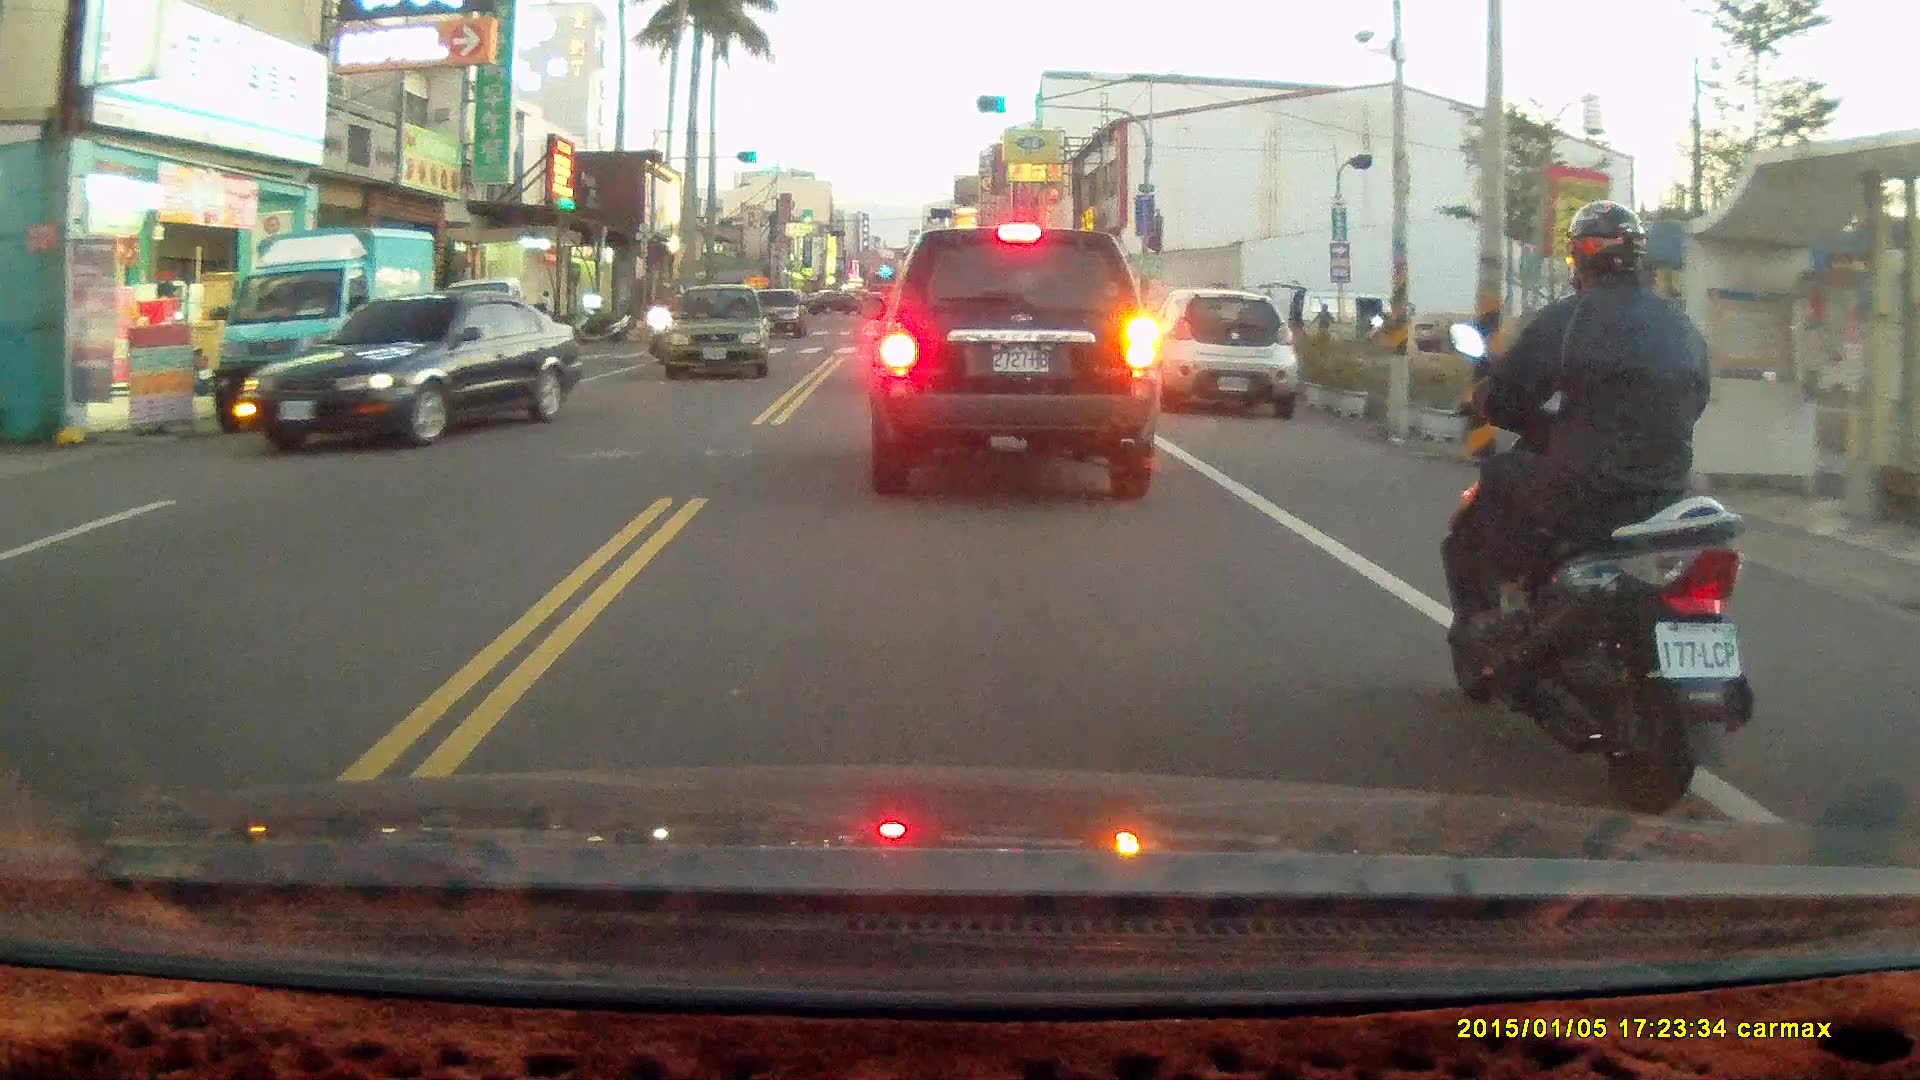rider: (1438, 198, 1753, 812), (640, 281, 681, 367)
vehicle: (866, 226, 1158, 503), (240, 291, 585, 452), (207, 229, 445, 424), (1147, 290, 1300, 424), (656, 285, 774, 391)
